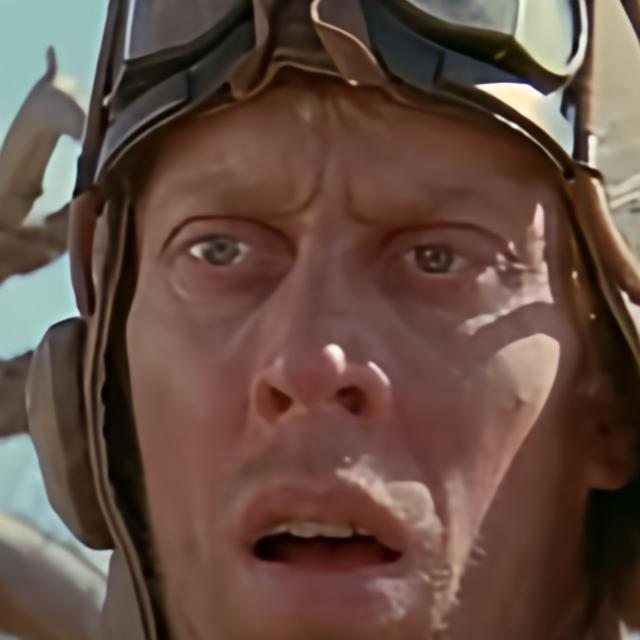fear: (128, 74, 590, 640)
